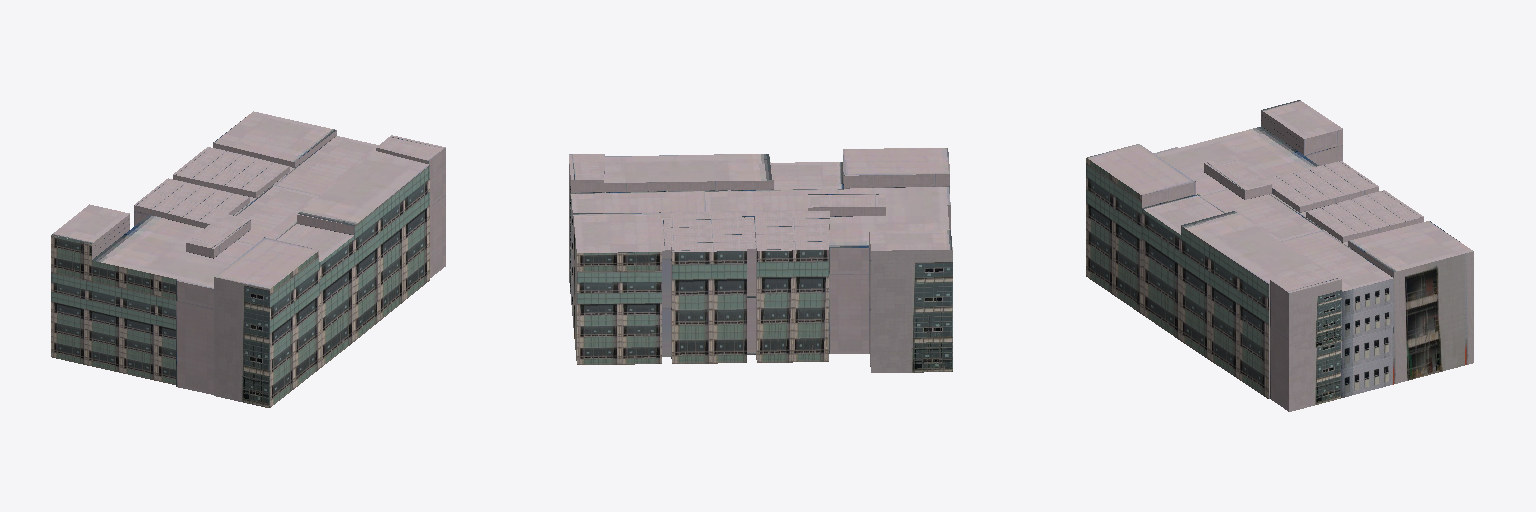
3 views of the same model, side by side, from view 1: azimuth 30°, elevation 25°; view 2: azimuth 150°, elevation 25°; view 3: azimuth 270°, elevation 25° (orthographic).
Visible parts, largest first — view 1: VMtl677, VMtl719, VMtl1921, VMtl717, VMtl1930, VMtl680, VMtl715, VMtl721, VMtl1939, VMtl697, VMtl699; view 2: VMtl677, VMtl707, VMtl701, VMtl703, VMtl705, VMtl680, VMtl715, VMtl709, VMtl699; view 3: VMtl677, VMtl1921, VMtl1947, VMtl1930, VMtl680, VMtl715, VMtl1939, VMtl1937, VMtl1919, VMtl682, VMtl684, VMtl697 (+1 smaller).
Boxes of the visible parts, x1,y1,x2,y2 form: VMtl677: [52, 111, 445, 288]; VMtl719: [51, 235, 176, 384]; VMtl1921: [354, 165, 429, 341]; VMtl717: [214, 277, 269, 407]; VMtl1930: [270, 251, 319, 407]; VMtl680: [234, 136, 378, 246]; VMtl715: [93, 215, 250, 288]; VMtl721: [176, 281, 213, 394]; VMtl1939: [320, 236, 353, 367]; VMtl697: [429, 148, 445, 277]; VMtl699: [277, 224, 353, 261]; VMtl677: [569, 148, 952, 366]; VMtl707: [871, 250, 952, 372]; VMtl701: [577, 252, 661, 364]; VMtl703: [672, 251, 746, 363]; VMtl705: [757, 250, 828, 362]; VMtl680: [571, 189, 843, 217]; VMtl715: [829, 187, 950, 247]; VMtl709: [829, 248, 868, 353]; VMtl699: [771, 162, 843, 189]; VMtl677: [1087, 100, 1472, 398]; VMtl1921: [1181, 226, 1268, 398]; VMtl1947: [1393, 251, 1473, 384]; VMtl1930: [1086, 158, 1141, 313]; VMtl680: [1197, 187, 1392, 291]; VMtl715: [1154, 126, 1318, 194]; VMtl1939: [1142, 209, 1180, 340]; VMtl1937: [1289, 279, 1341, 354]; VMtl1919: [1289, 341, 1341, 411]; VMtl682: [1341, 327, 1393, 397]; VMtl684: [1342, 278, 1393, 340]; VMtl697: [1270, 280, 1288, 411].
Bounding box in the file's own units: 101 × 30.39 × 87.09.
24 materials, 7 textured.